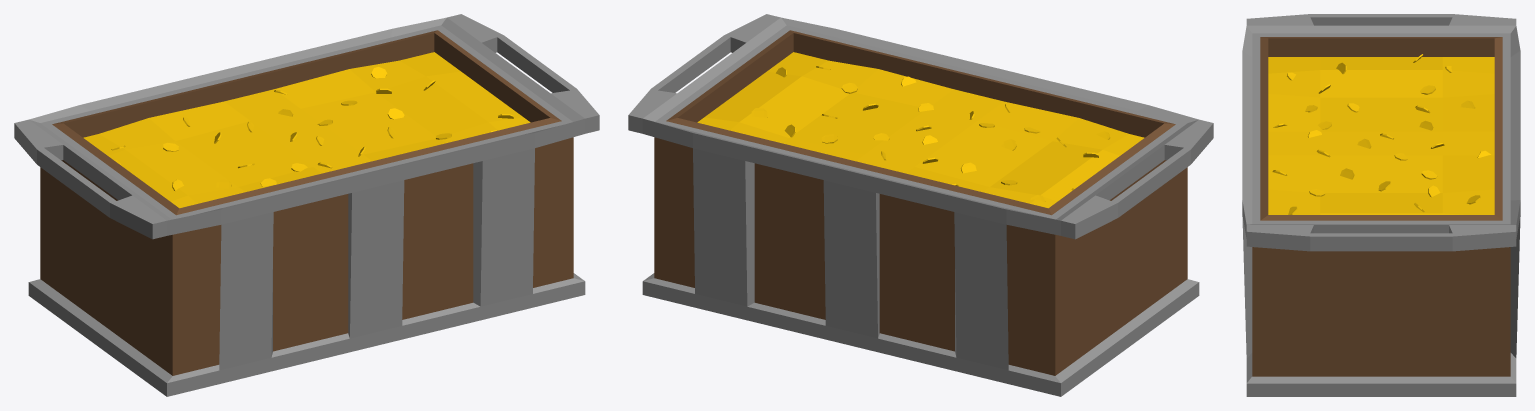
File: TreasureCrate.fbx
The picture shows the model from 3 angles, left to right: view 1: azimuth 30°, elevation 25°; view 2: azimuth 150°, elevation 25°; view 3: azimuth 270°, elevation 25°; orthographic projection. The views are drawn at different scales.
Parts seen in each view (by area): view 1: TreasureCrate; view 2: TreasureCrate; view 3: TreasureCrate.
Boxes of the visible parts, bbox=[...] form: TreasureCrate: bbox=[14, 14, 599, 396]; TreasureCrate: bbox=[628, 14, 1213, 396]; TreasureCrate: bbox=[1242, 14, 1520, 396].
Size of the model in its own units: 2.57 by 0.9264 by 1.36.
1 material, 1 textured.
